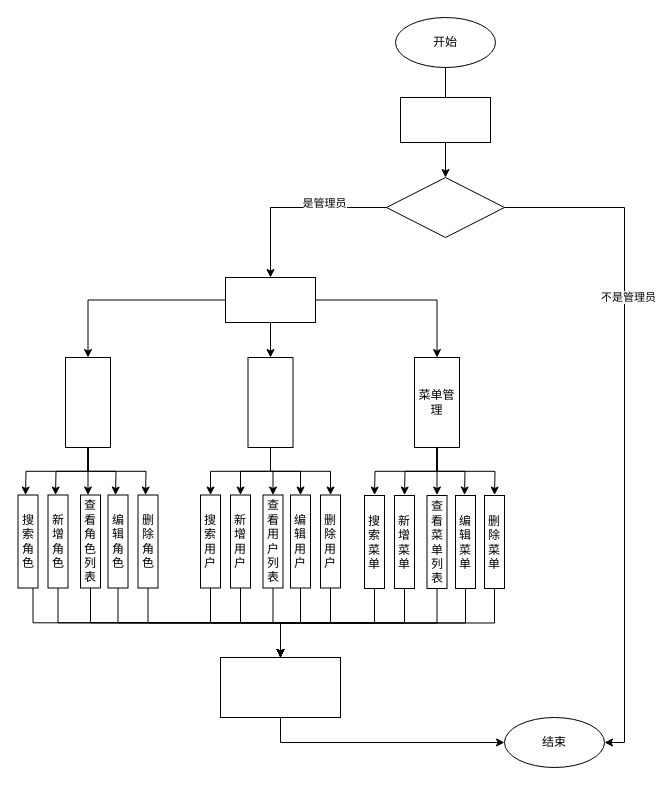
Image size: 672x785. Some labels were removed from this diagram. The shapes that lost their labels are listed below. From the top down, each one's centre as x and y in pixels, then its label:
At [445,119]: "用户登录".
At [445,207]: "角色检查".
At [270,299]: "系统管理模块".
At [87,402]: "角色管理".
At [270,402]: "用户管理".
At [280,687]: "整合".
